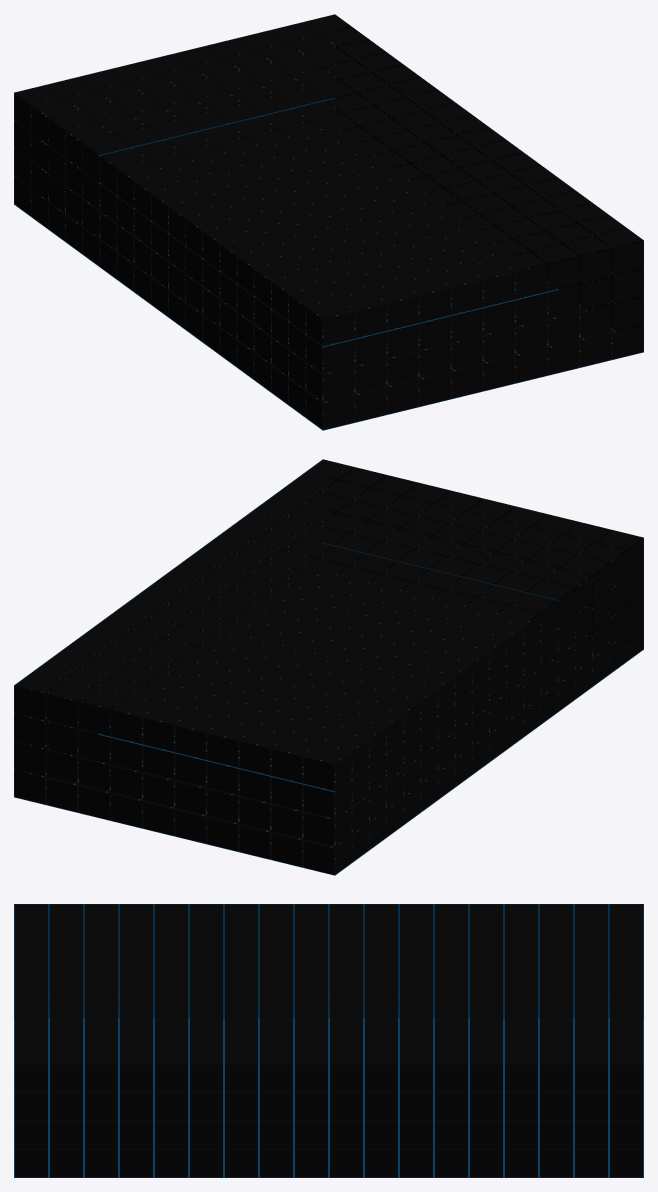
The model's file is Void Room.fbx.
3 renders of one model, top to bottom at view 1: azimuth 30°, elevation 25°; view 2: azimuth 150°, elevation 25°; view 3: azimuth 270°, elevation 25°, orthographic.
Parts seen in each view (by area): view 1: pCube1; view 2: pCube1; view 3: pCube1.
Boxes of the visible parts, x1=… form: pCube1: x1=14, y1=14, x2=643, y2=430; pCube1: x1=14, y1=459, x2=643, y2=875; pCube1: x1=14, y1=904, x2=643, y2=1177.
Size of the model in its own units: 30 by 10 by 50.
